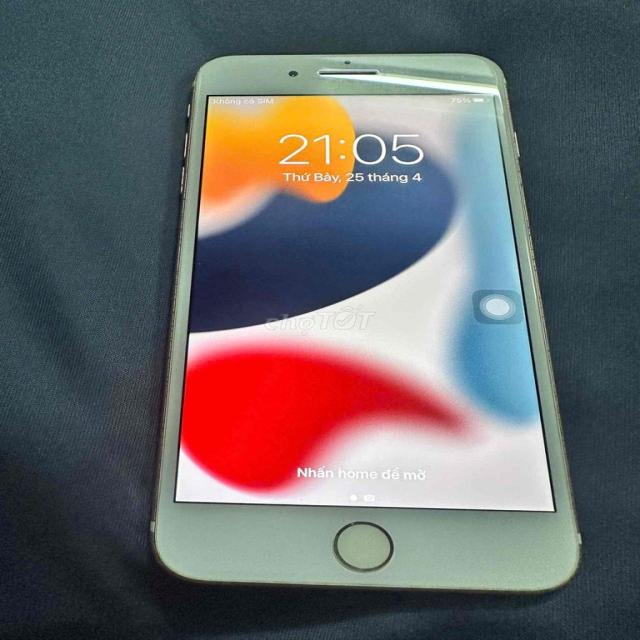gen_7_8: (140, 51, 586, 592)
